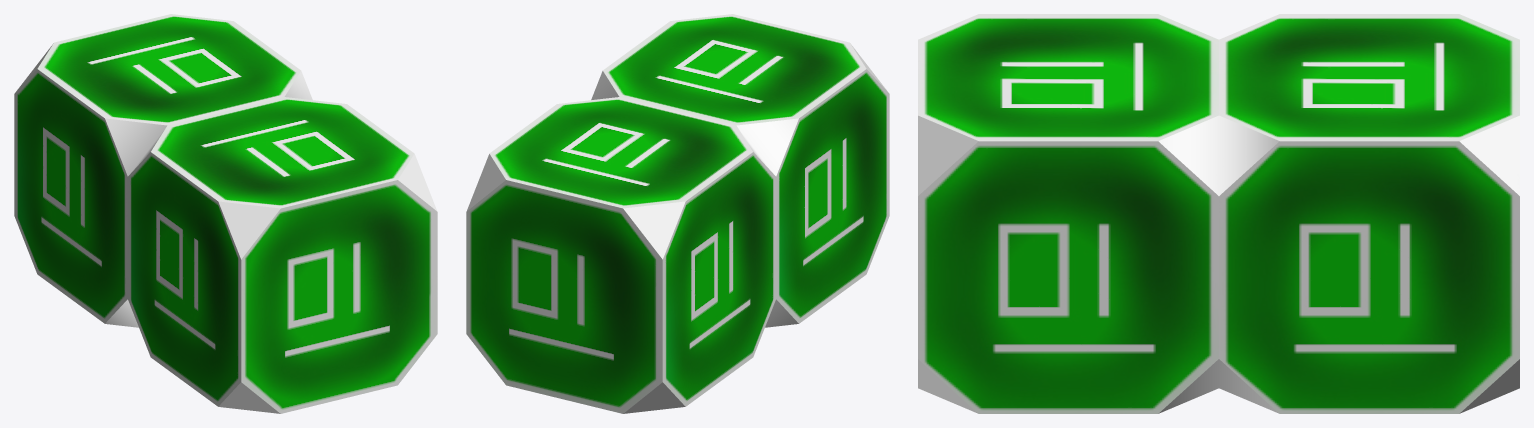
Rendered from MG-ChJ-CS-01FangKuai-2.FBX.
3 renders of one model, left to right at view 1: azimuth 30°, elevation 25°; view 2: azimuth 150°, elevation 25°; view 3: azimuth 270°, elevation 25°, orthographic. The views are drawn at different scales.
Parts seen in each view (by area): view 1: MG-ChJ-CS-01FangKuai-2; view 2: MG-ChJ-CS-01FangKuai-2; view 3: MG-ChJ-CS-01FangKuai-2.
Boxes of the visible parts, x1,y1,x2,y2 form: MG-ChJ-CS-01FangKuai-2: [14, 14, 437, 413]; MG-ChJ-CS-01FangKuai-2: [466, 14, 889, 413]; MG-ChJ-CS-01FangKuai-2: [918, 14, 1519, 413].
Bounding box in the file's own units: 39.37 × 39.37 × 78.74.
